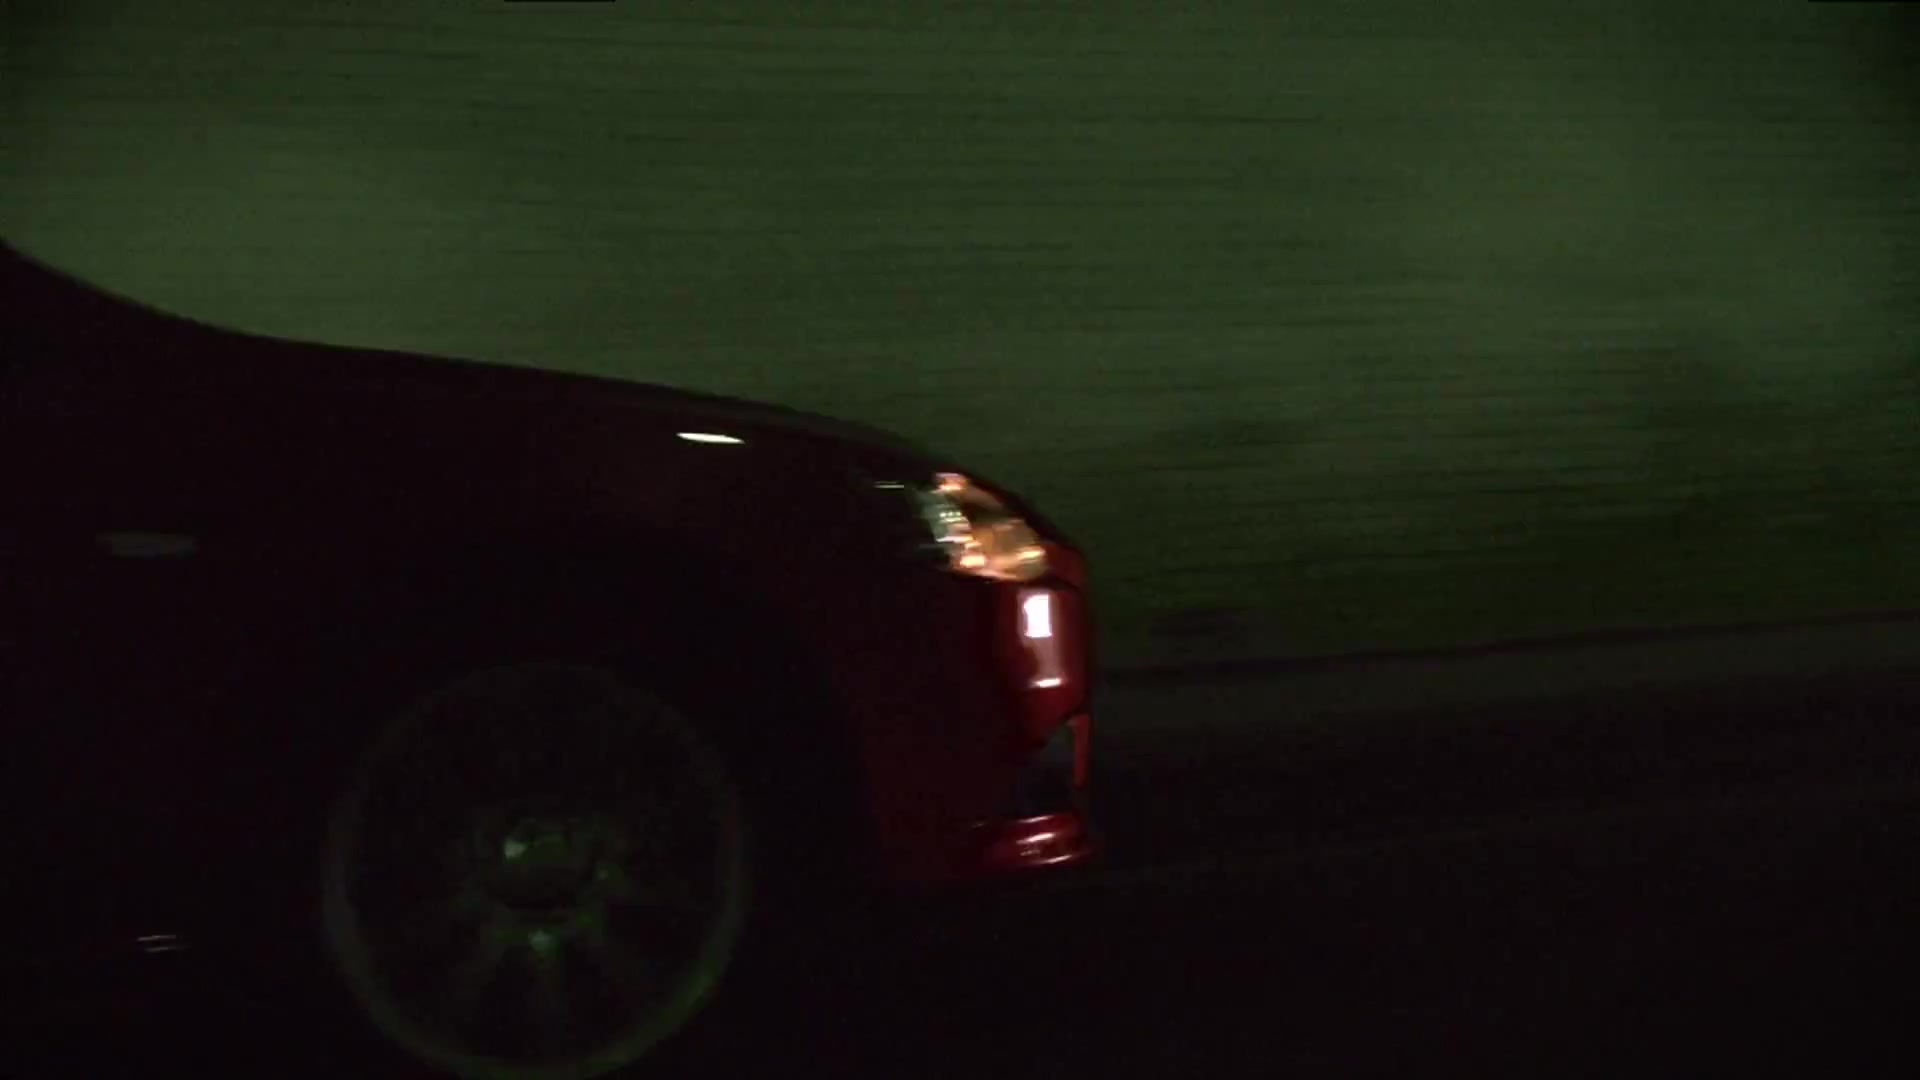car: (5, 223, 1116, 1067)
